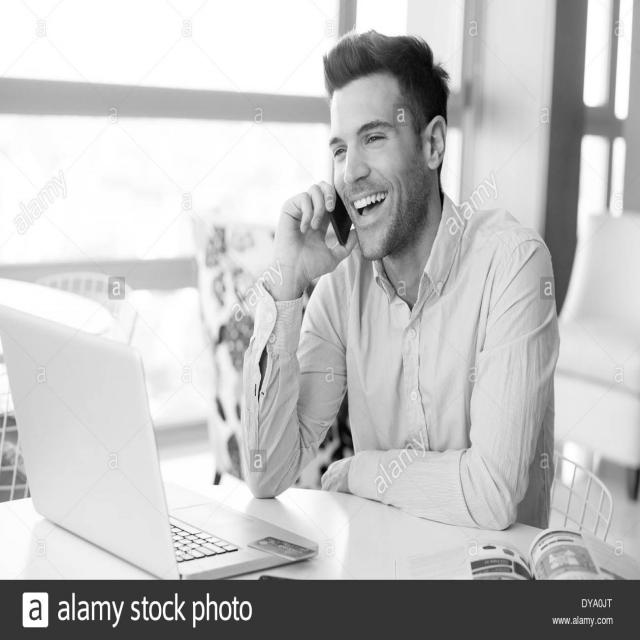phone: (255, 115, 363, 291)
